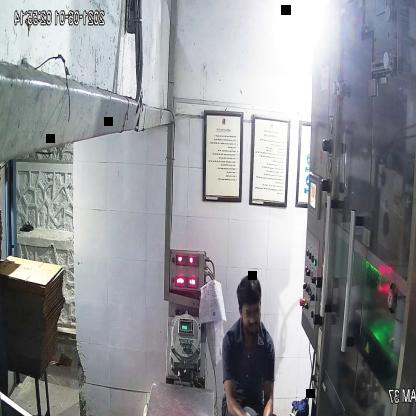no_goggles: (238, 300, 264, 322)
